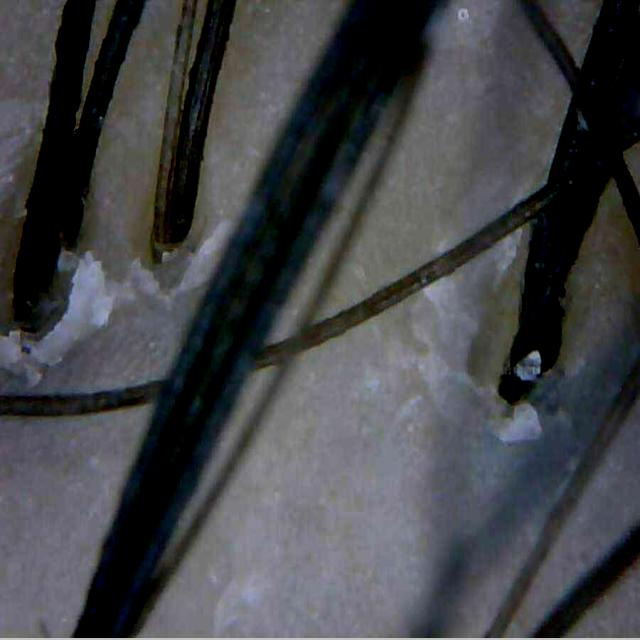d: (30, 251, 114, 364), (167, 217, 241, 303), (0, 331, 42, 394), (106, 258, 159, 305), (488, 399, 543, 444), (511, 349, 543, 384), (0, 331, 21, 366)
ds: (415, 279, 479, 424), (492, 228, 522, 290)
